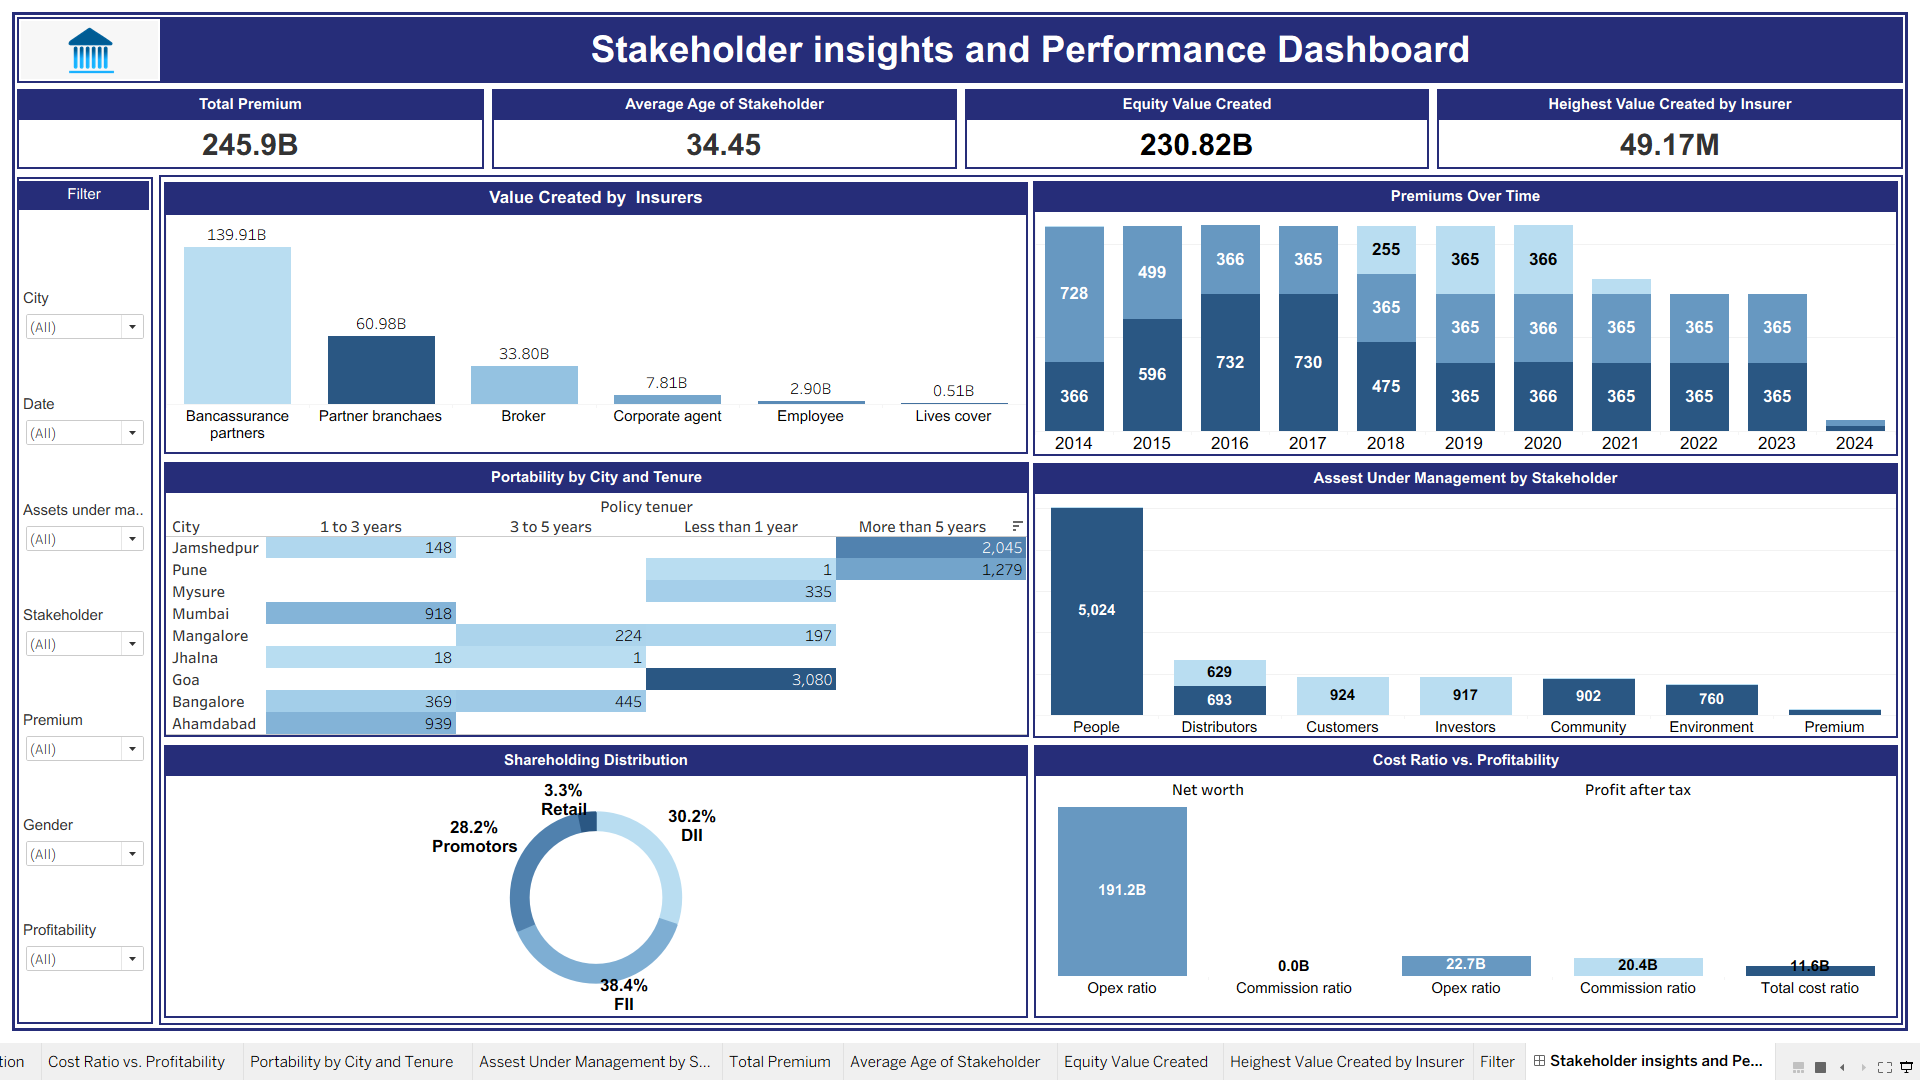

The page's visual inventory and layout, read from the dashboard file:
{"tool":"tableau","page":{"name":"Stakeholder insights and Performance Dashboard","canvas":[1000,1000],"units":"permille","ordinal":0},"visuals":[{"type":"image","param":"D:/Blue-Bank-PNG-Image-Background.png","box":[11.5,22.3,85.1,72.9]},{"type":"text","box":[96.6,22.3,892,72.9]},{"type":"worksheet","title":"Total Premium","mark":"Automatic","box":[9.1,99.9,245.6,103.4]},{"type":"worksheet","title":"Average Age of Stakeholder","mark":"Automatic","box":[254.7,99.9,245.6,103.4]},{"type":"worksheet","title":"Equity Value Created","mark":"Automatic","box":[500.3,99.9,245.6,103.4]},{"type":"worksheet","title":"Heighest Value Created by Insurer","mark":"Automatic","box":[745.9,99.9,245,103.4]},{"type":"worksheet","title":"Filter","mark":"Automatic","box":[11.5,210.3,79.7,96.4]},{"type":"worksheet","title":"Value Created by  Insurers","mark":"Automatic","rows":["Value Created"],"cols":["Insurer"],"box":[97.2,210.3,446,251.5]},{"type":"worksheet","title":"Premiums Over Time","mark":"Bar","rows":["Premium 1"],"cols":["Date"],"box":[543.1,210.3,445.4,251.5]},{"type":"filter","title":"Filter","param":"[federated.0i3km7i0hz0k7y1cgkl9c1rdp684].[none:City:nk]","box":[11.5,306.7,79.7,96.4]},{"type":"filter","title":"Filter","param":"[federated.0i3km7i0hz0k7y1cgkl9c1rdp684].[my:Date:ok]","box":[11.5,403.1,79.7,96.4]},{"type":"worksheet","title":"Portability by City and Tenure","mark":"Square","rows":["City"],"cols":["Policy tenuer"],"box":[97.2,466.5,446,251.5]},{"type":"worksheet","title":"Assest Under Management by Stakeholder","mark":"Automatic","rows":["Assets under management"],"cols":["Stakeholder"],"box":[543.1,466.5,445.4,251.5]},{"type":"filter","title":"Filter","param":"[federated.0i3km7i0hz0k7y1cgkl9c1rdp684].[none:Assets under management:nk]","box":[11.5,499.4,79.7,95.2]},{"type":"filter","title":"Filter","param":"[federated.0i3km7i0hz0k7y1cgkl9c1rdp684].[none:Stakeholder:nk]","box":[11.5,594.6,79.7,95.2]},{"type":"filter","title":"Filter","param":"[federated.0i3km7i0hz0k7y1cgkl9c1rdp684].[none:Premium 1:nk]","box":[11.5,689.8,79.7,95.2]},{"type":"worksheet","title":"Shareholding Distribution","mark":"Pie","rows":["Calculation_1171544386998272","Calculation_1171544386998272"],"box":[97.2,722.7,446,251.5]},{"type":"worksheet","title":"Cost Ratio vs. Profitability","mark":"Automatic","rows":["Value Created"],"cols":["Profitability","Cost ratio"],"box":[543.1,722.7,445.4,251.5]},{"type":"filter","title":"Filter","param":"[federated.0i3km7i0hz0k7y1cgkl9c1rdp684].[none:Gender:nk]","box":[11.5,785,79.7,95.2]},{"type":"filter","title":"Filter","param":"[federated.0i3km7i0hz0k7y1cgkl9c1rdp684].[none:Profitability:nk]","box":[11.5,880.1,79.7,95.2]}]}

Visuals, with their boxes on the dashboard's canvas, which has no fixed pixel size, in thousandths of its width and height (x1, y1, x2, y2). These are canvas units, not pixel positions in the 1920x1080 screenshot, which may show the page scaled, cropped or inside an application window:
image: detection(12, 22, 97, 95)
text: detection(97, 22, 989, 95)
"Total Premium" worksheet: detection(9, 100, 255, 203)
"Average Age of Stakeholder" worksheet: detection(255, 100, 500, 203)
"Equity Value Created" worksheet: detection(500, 100, 746, 203)
"Heighest Value Created by Insurer" worksheet: detection(746, 100, 991, 203)
"Filter" worksheet: detection(12, 210, 91, 307)
"Value Created by  Insurers" worksheet: detection(97, 210, 543, 462)
"Premiums Over Time" worksheet (Bar marks): detection(543, 210, 988, 462)
"Filter" filter: detection(12, 307, 91, 403)
"Filter" filter: detection(12, 403, 91, 500)
"Portability by City and Tenure" worksheet (Square marks): detection(97, 466, 543, 718)
"Assest Under Management by Stakeholder" worksheet: detection(543, 466, 988, 718)
"Filter" filter: detection(12, 499, 91, 595)
"Filter" filter: detection(12, 595, 91, 690)
"Filter" filter: detection(12, 690, 91, 785)
"Shareholding Distribution" worksheet (Pie marks): detection(97, 723, 543, 974)
"Cost Ratio vs. Profitability" worksheet: detection(543, 723, 988, 974)
"Filter" filter: detection(12, 785, 91, 880)
"Filter" filter: detection(12, 880, 91, 975)
